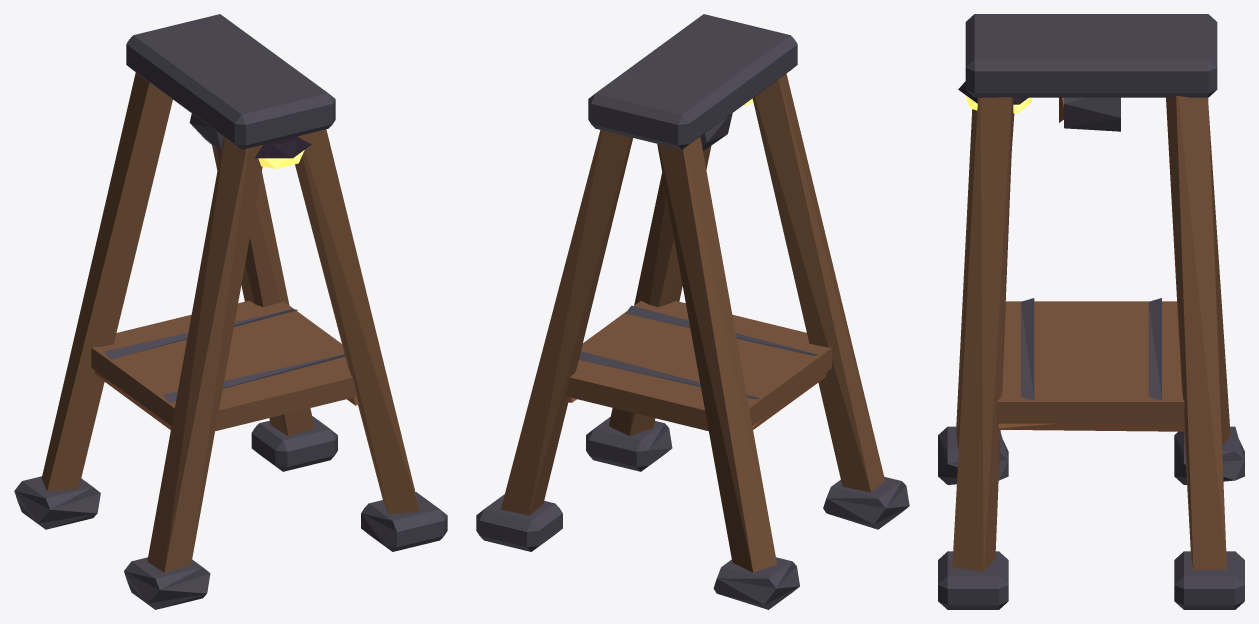
The model's file is underworks_hoist-lod1.glb.
The picture shows the model from 3 angles, left to right: view 1: azimuth 30°, elevation 25°; view 2: azimuth 150°, elevation 25°; view 3: azimuth 270°, elevation 25°; orthographic projection. The views are drawn at different scales.
Parts seen in each view (by area): view 1: underworks_hoist; view 2: underworks_hoist; view 3: underworks_hoist.
Boxes of the visible parts, left/top/right/bottom form: underworks_hoist: left=14, top=14, right=447, bottom=609; underworks_hoist: left=476, top=14, right=909, bottom=609; underworks_hoist: left=938, top=14, right=1244, bottom=609.
Size of the model in its own units: 3.92 by 5.77 by 3.22.
